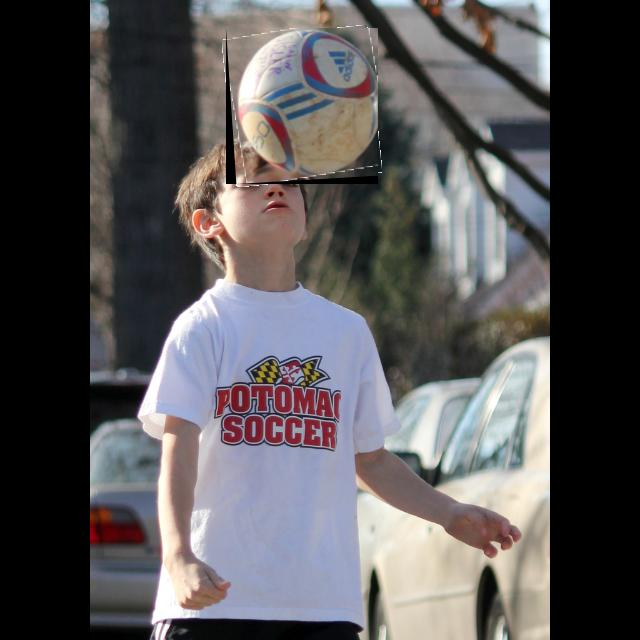Football: (226, 28, 378, 184)
